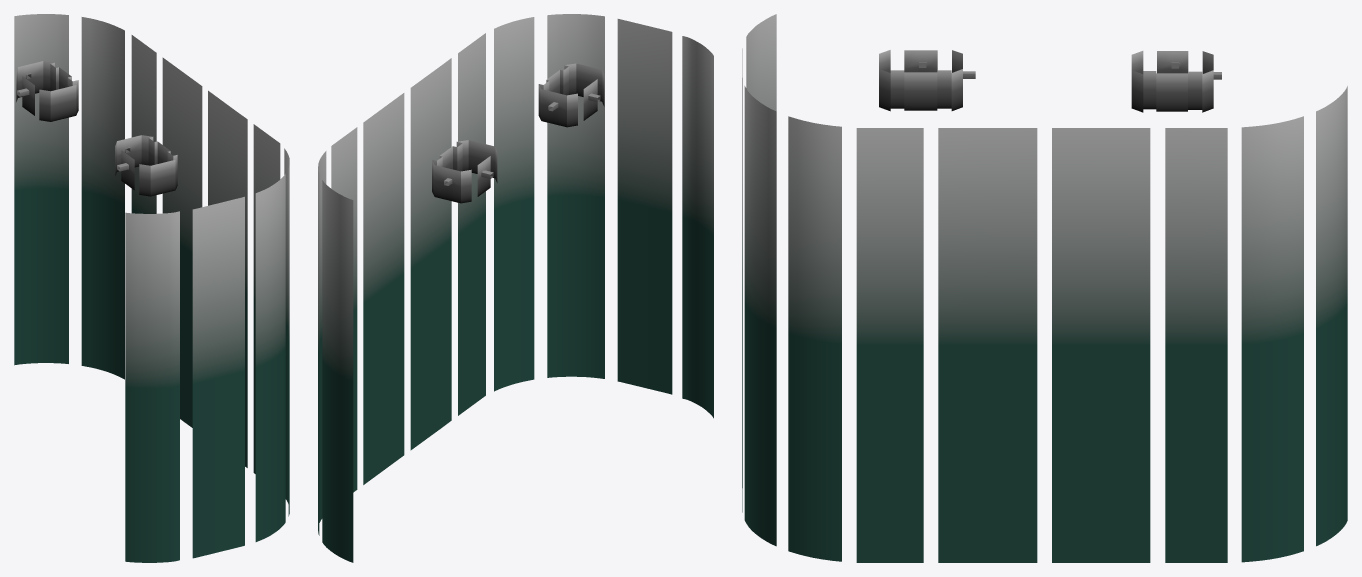
The model's file is MSH_Nature_exteriorWall.FBX.
3 renders of one model, left to right at view 1: azimuth 30°, elevation 25°; view 2: azimuth 150°, elevation 25°; view 3: azimuth 270°, elevation 25°, orthographic. The views are drawn at different scales.
Visible parts, largest first — view 1: Nature_exteriorWall; view 2: Nature_exteriorWall; view 3: Nature_exteriorWall.
Part boxes in pixels (<box>): Nature_exteriorWall: <box>14,14,289,562</box>; Nature_exteriorWall: <box>318,14,713,562</box>; Nature_exteriorWall: <box>742,14,1347,562</box>.
Size of the model in its own units: 21.12 by 37.65 by 47.39.
